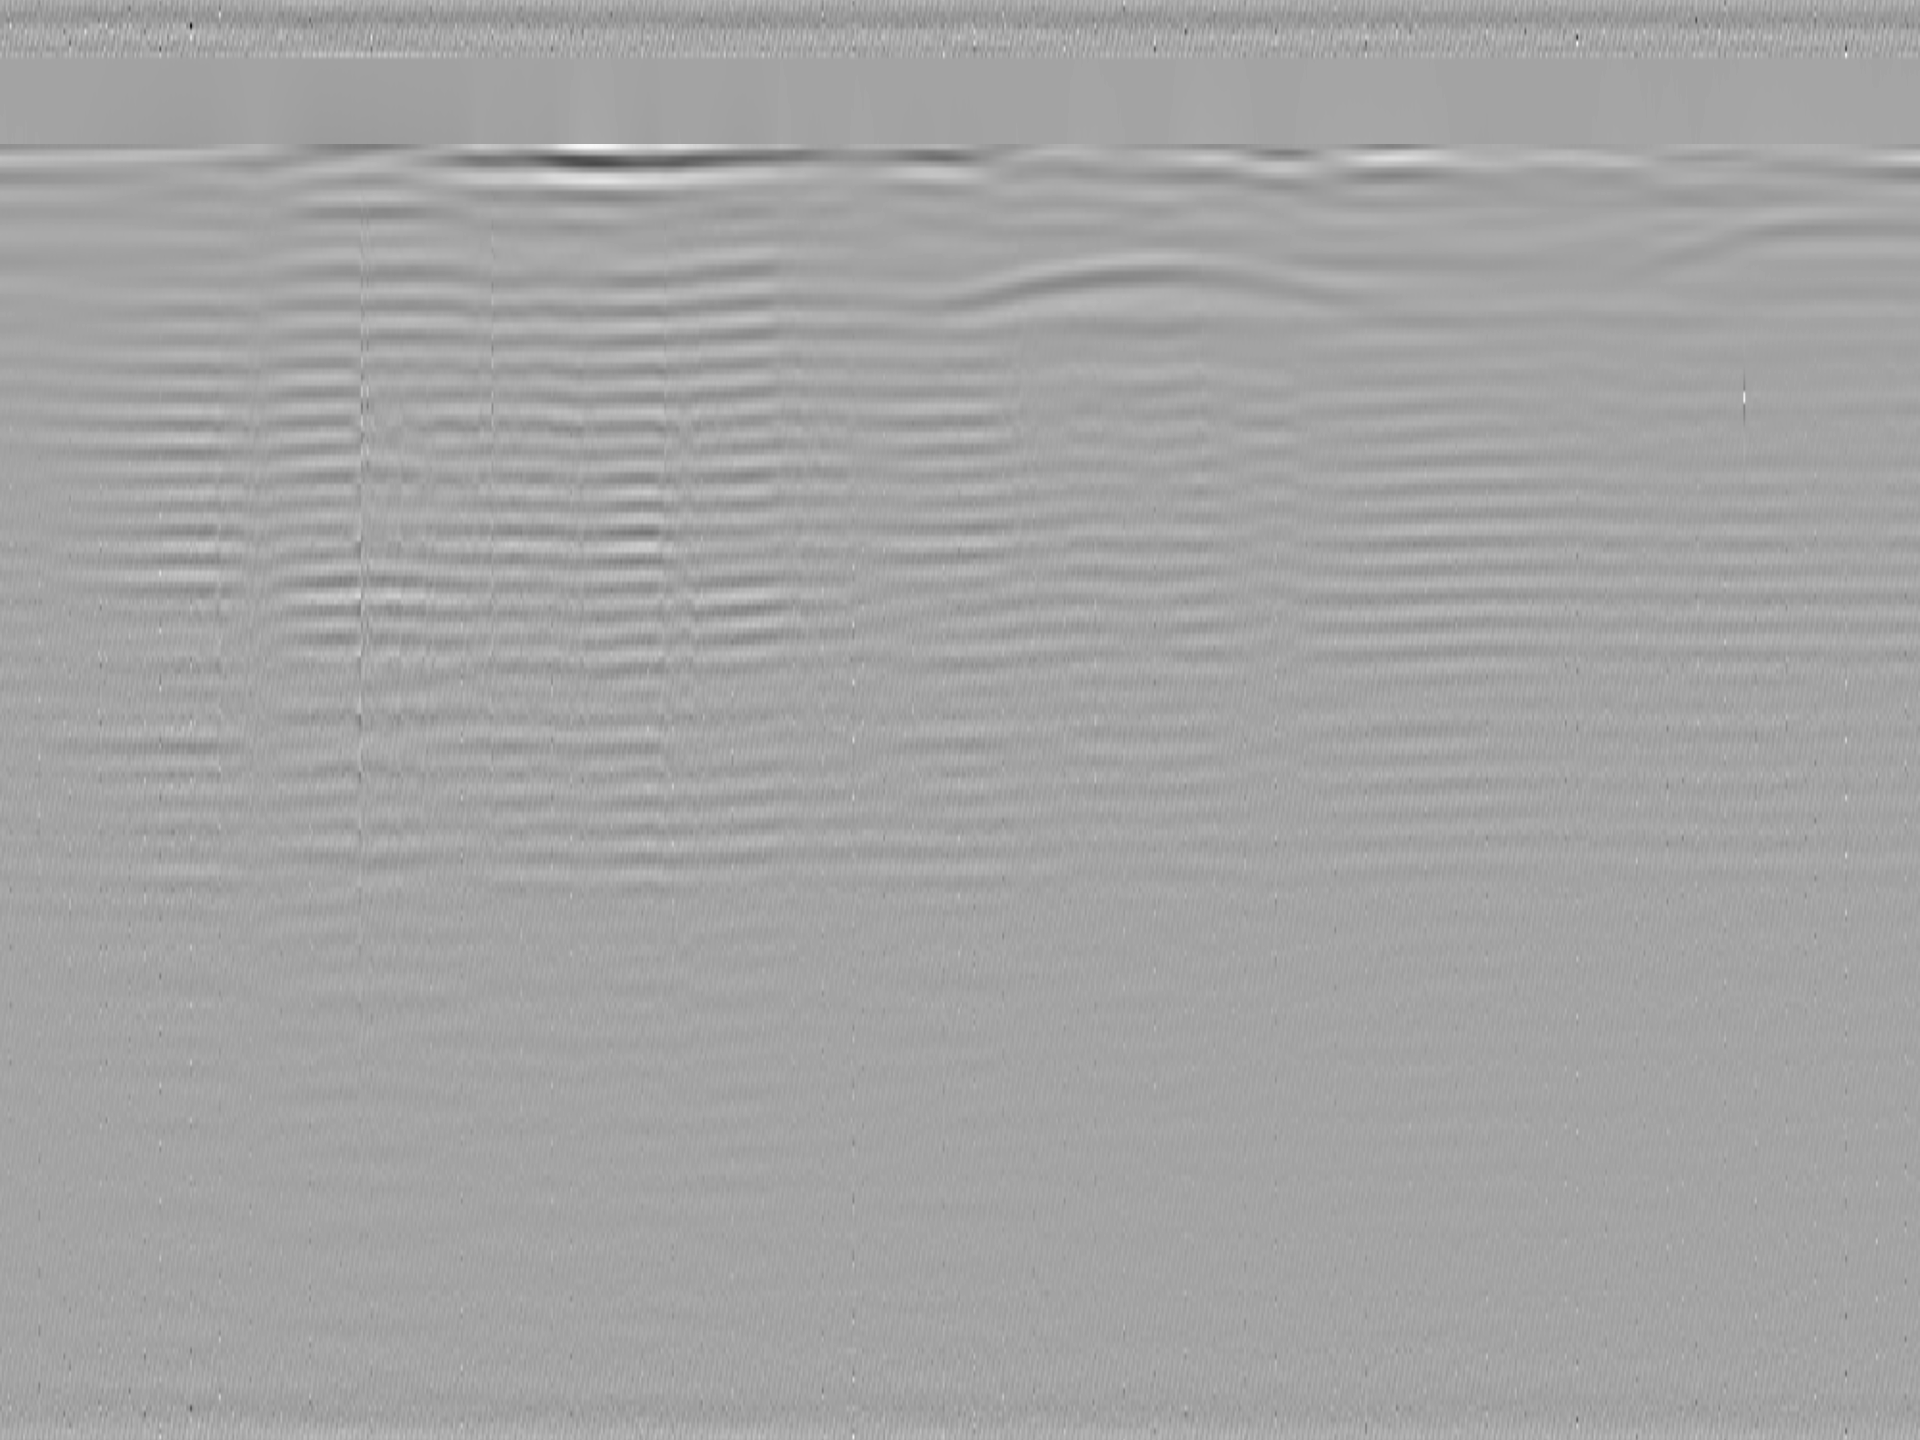Tunnel: (934, 254, 1355, 322)
